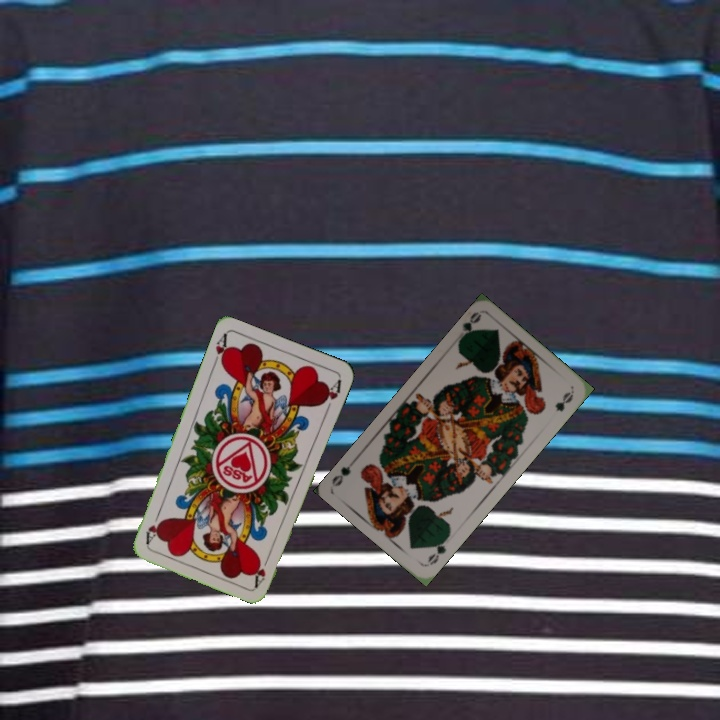GO: (454, 308, 483, 346), (423, 532, 451, 568)
HA: (209, 330, 231, 370), (250, 550, 273, 588)
